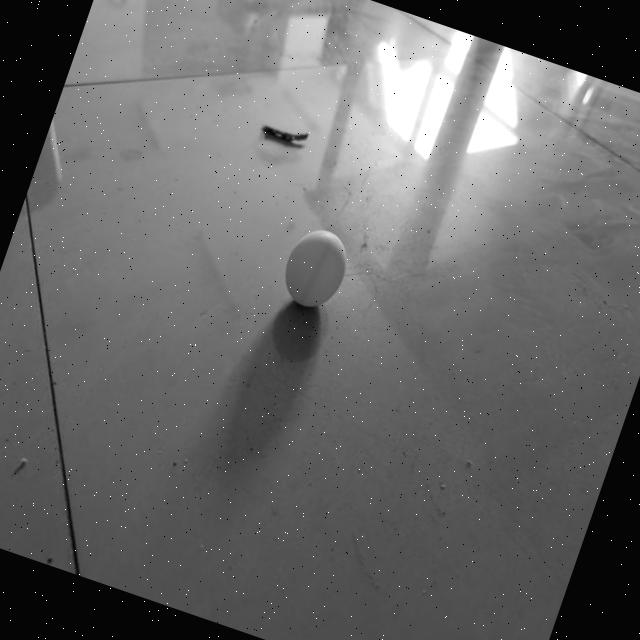ping-pong-ball: (274, 220, 354, 314)
